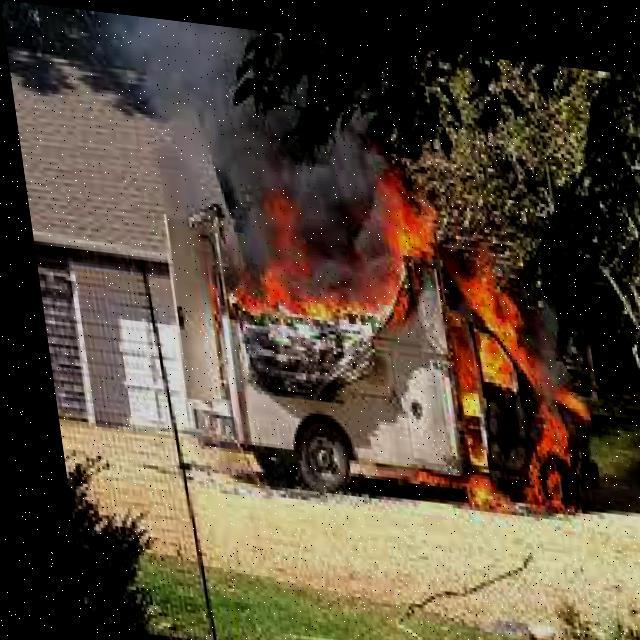Fire: (430, 233, 619, 531), (202, 162, 459, 350)
